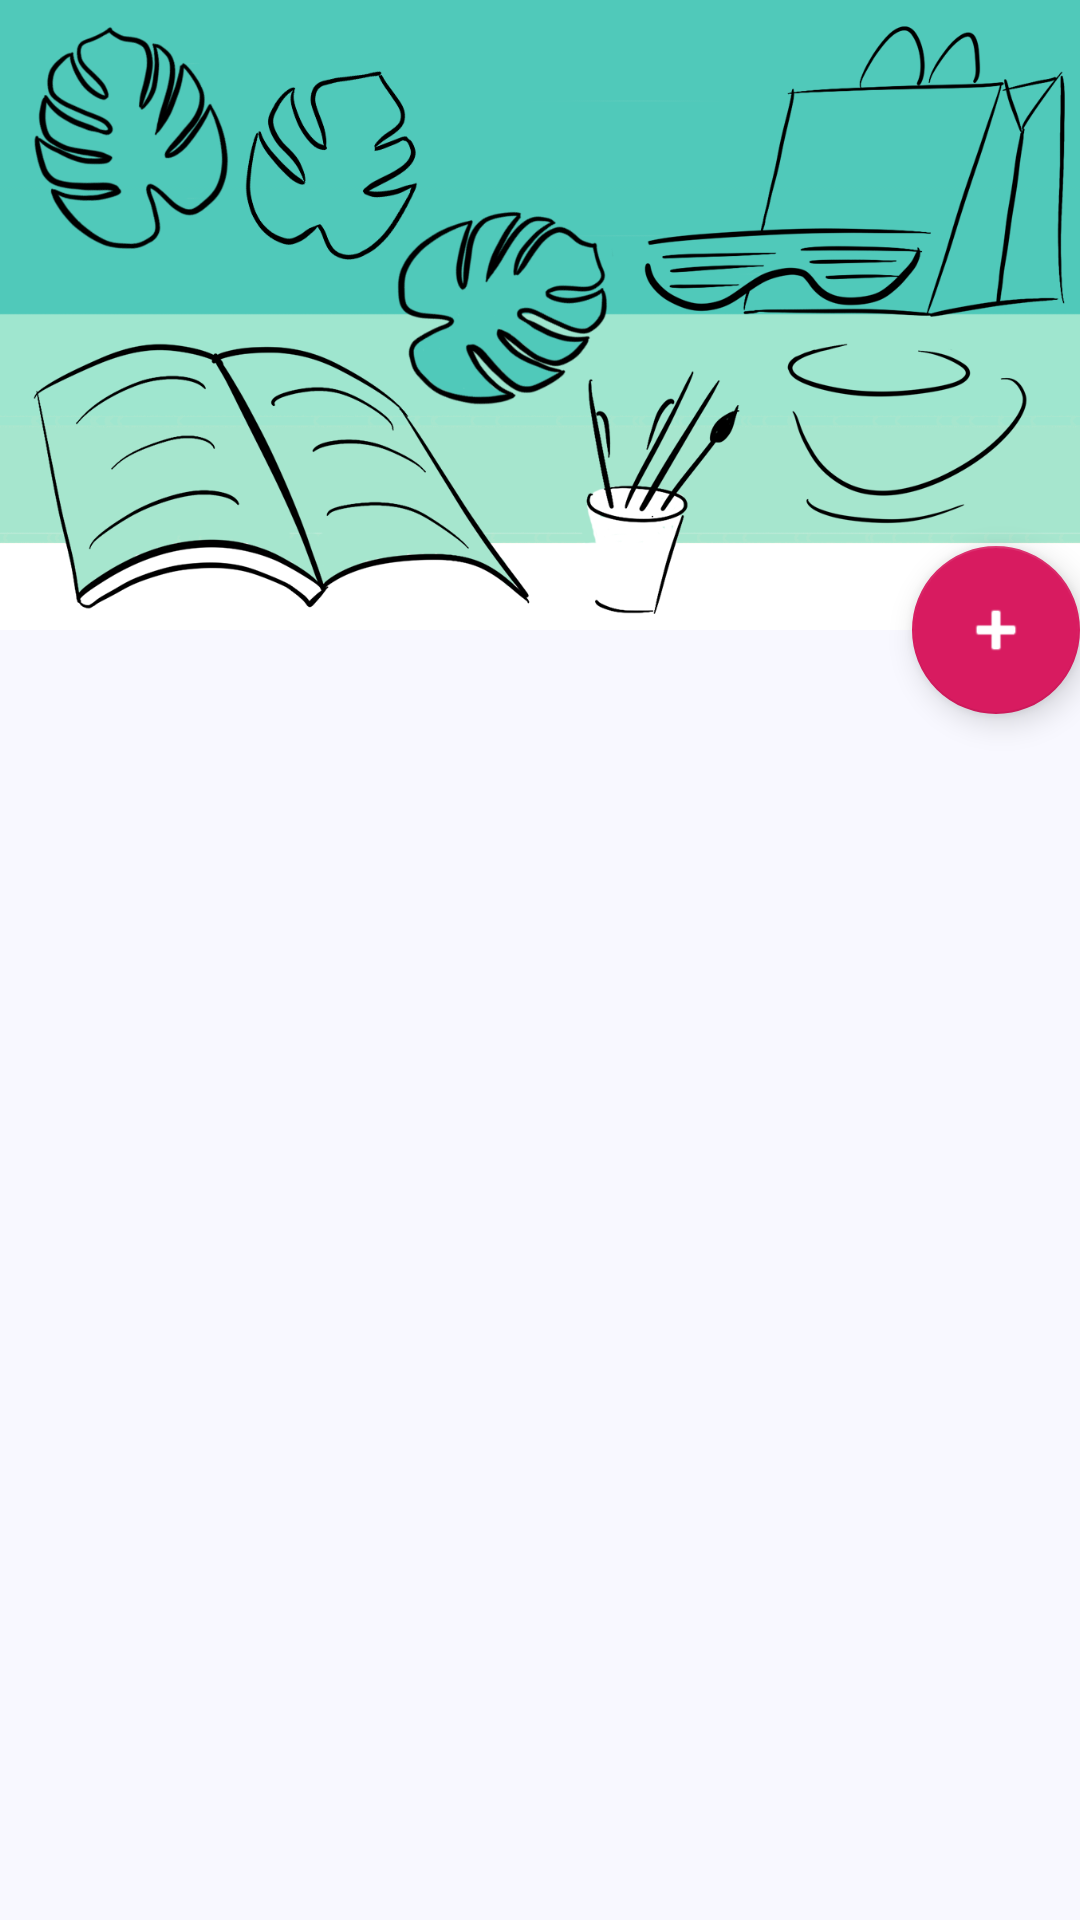

Icons on this 1080 × 1920 Android screen, each with the point to tap as point (x, y):
add: point (996, 630)
